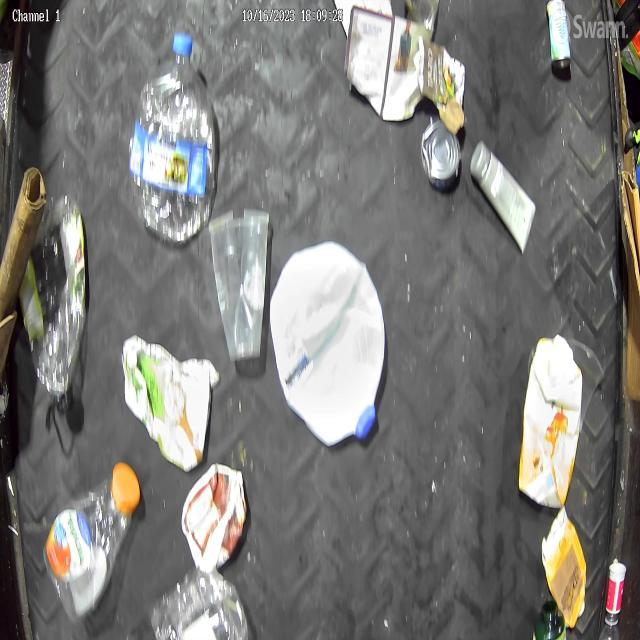milk_jug: (269, 234, 383, 443)
non_white_jug: (523, 332, 579, 499)
plastic_bottle: (46, 456, 142, 626)
